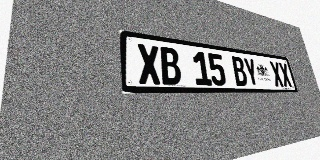1: (191, 51, 212, 85)
5: (207, 53, 227, 86)
B: (159, 46, 182, 85), (230, 56, 249, 86)
X: (136, 43, 162, 85), (269, 61, 284, 87), (278, 62, 293, 87)
Y: (243, 58, 260, 86)
